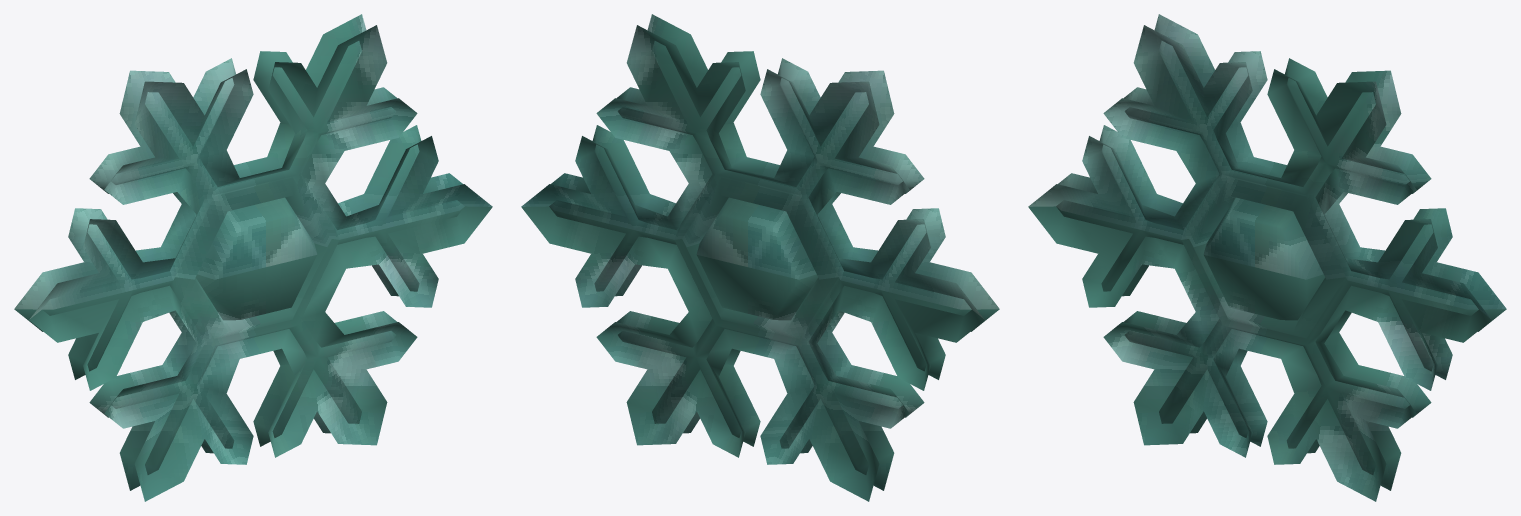
File: snowflake.glb
3 views of the same model, side by side, from view 1: azimuth 30°, elevation 25°; view 2: azimuth 150°, elevation 25°; view 3: azimuth 330°, elevation 25° (orthographic).
Bounding box in the file's own units: 3.05 × 2.64 × 0.2865.
Materials: 1 (1 with a texture image).
